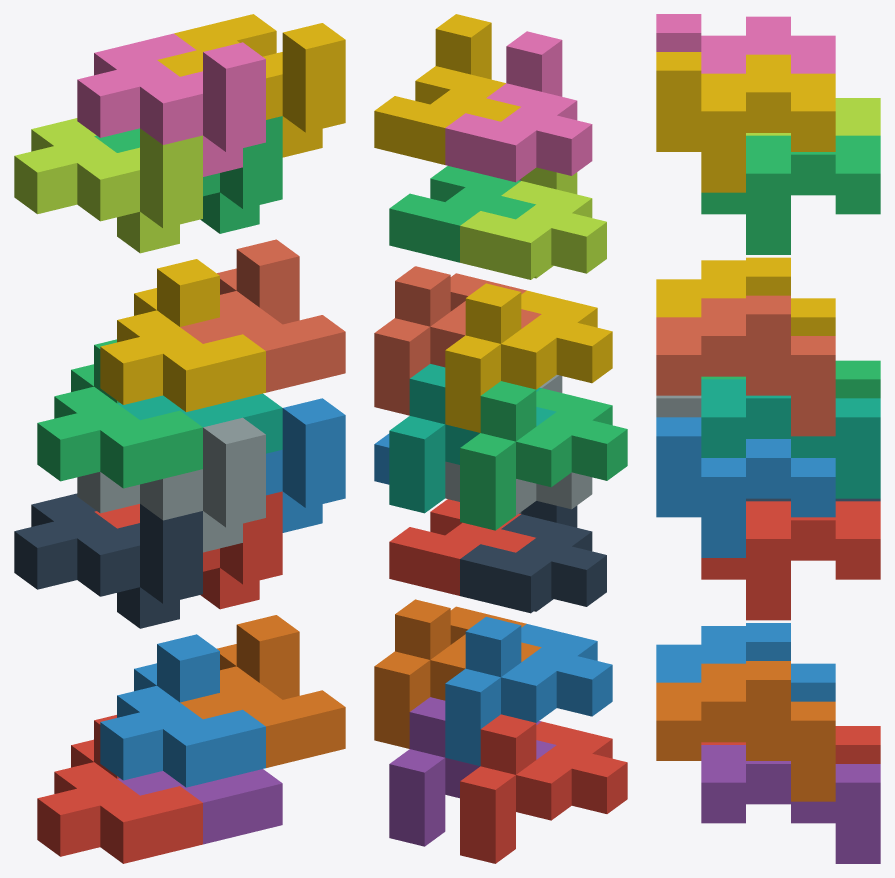
Rendered from tiling.obj.
3 renders of one model, left to right at view 1: azimuth 30°, elevation 25°; view 2: azimuth 150°, elevation 25°; view 3: azimuth 270°, elevation 25°, orthographic. The views are drawn at different scales.
Parts seen in each view (by area): view 1: copy_2_domain_4, copy_2_domain_3, copy_2_domain_1, copy_1_domain_2, copy_1_domain_4, copy_1_domain_1, copy_1_domain_3, copy_1_domain_8, copy_1_domain_6, copy_2_domain_8, copy_2_domain_2, copy_2_domain_6 (+4 smaller); view 2: copy_1_domain_3, copy_1_domain_1, copy_1_domain_2, copy_1_domain_4, copy_2_domain_4, copy_2_domain_1, copy_2_domain_3, copy_2_domain_8, copy_1_domain_8, copy_1_domain_6, copy_1_domain_5, copy_1_domain_7 (+4 smaller); view 3: copy_2_domain_8, copy_1_domain_8, copy_1_domain_6, copy_2_domain_6, copy_2_domain_7, copy_2_domain_5, copy_1_domain_7, copy_1_domain_5, copy_2_domain_4, copy_1_domain_4, copy_1_domain_2, copy_1_domain_3 (+3 smaller).
Boxes of the visible parts, left/top/right/bottom form: copy_2_domain_4: left=77, top=33, right=265, bottom=176; copy_2_domain_3: left=14, top=118, right=202, bottom=253; copy_2_domain_1: left=14, top=493, right=202, bottom=628; copy_1_domain_2: left=100, top=634, right=265, bottom=787; copy_1_domain_4: left=100, top=259, right=265, bottom=412; copy_1_domain_1: left=37, top=715, right=202, bottom=863; copy_1_domain_3: left=37, top=339, right=202, bottom=488; copy_1_domain_8: left=180, top=239, right=345, bottom=392; copy_1_domain_6: left=180, top=615, right=345, bottom=767; copy_2_domain_8: left=157, top=14, right=345, bottom=157; copy_2_domain_2: left=77, top=417, right=265, bottom=552; copy_2_domain_6: left=266, top=398, right=345, bottom=532; copy_1_domain_3: left=460, top=381, right=627, bottom=530; copy_1_domain_1: left=460, top=714, right=627, bottom=863; copy_1_domain_2: left=445, top=616, right=612, bottom=766; copy_1_domain_4: left=445, top=283, right=612, bottom=432; copy_2_domain_4: left=445, top=31, right=592, bottom=182; copy_2_domain_1: left=460, top=501, right=606, bottom=613; copy_2_domain_3: left=460, top=167, right=606, bottom=279; copy_2_domain_8: left=374, top=14, right=520, bottom=164; copy_1_domain_8: left=374, top=266, right=541, bottom=415; copy_1_domain_6: left=374, top=599, right=541, bottom=748; copy_1_domain_5: left=389, top=697, right=556, bottom=846; copy_1_domain_7: left=389, top=364, right=556, bottom=513; copy_2_domain_8: left=656, top=52, right=835, bottom=192; copy_1_domain_8: left=656, top=295, right=835, bottom=436; copy_1_domain_6: left=656, top=661, right=835, bottom=801; copy_2_domain_6: left=656, top=417, right=835, bottom=557; copy_2_domain_7: left=701, top=135, right=880, bottom=254; copy_2_domain_5: left=701, top=501, right=880, bottom=620; copy_1_domain_7: left=701, top=379, right=880, bottom=498; copy_1_domain_5: left=701, top=745, right=880, bottom=863; copy_2_domain_4: left=656, top=14, right=835, bottom=73; copy_1_domain_4: left=656, top=257, right=835, bottom=335; copy_1_domain_2: left=656, top=623, right=835, bottom=701; copy_1_domain_3: left=701, top=360, right=880, bottom=398.
Size of the model in its own units: 6 by 20 by 5.
